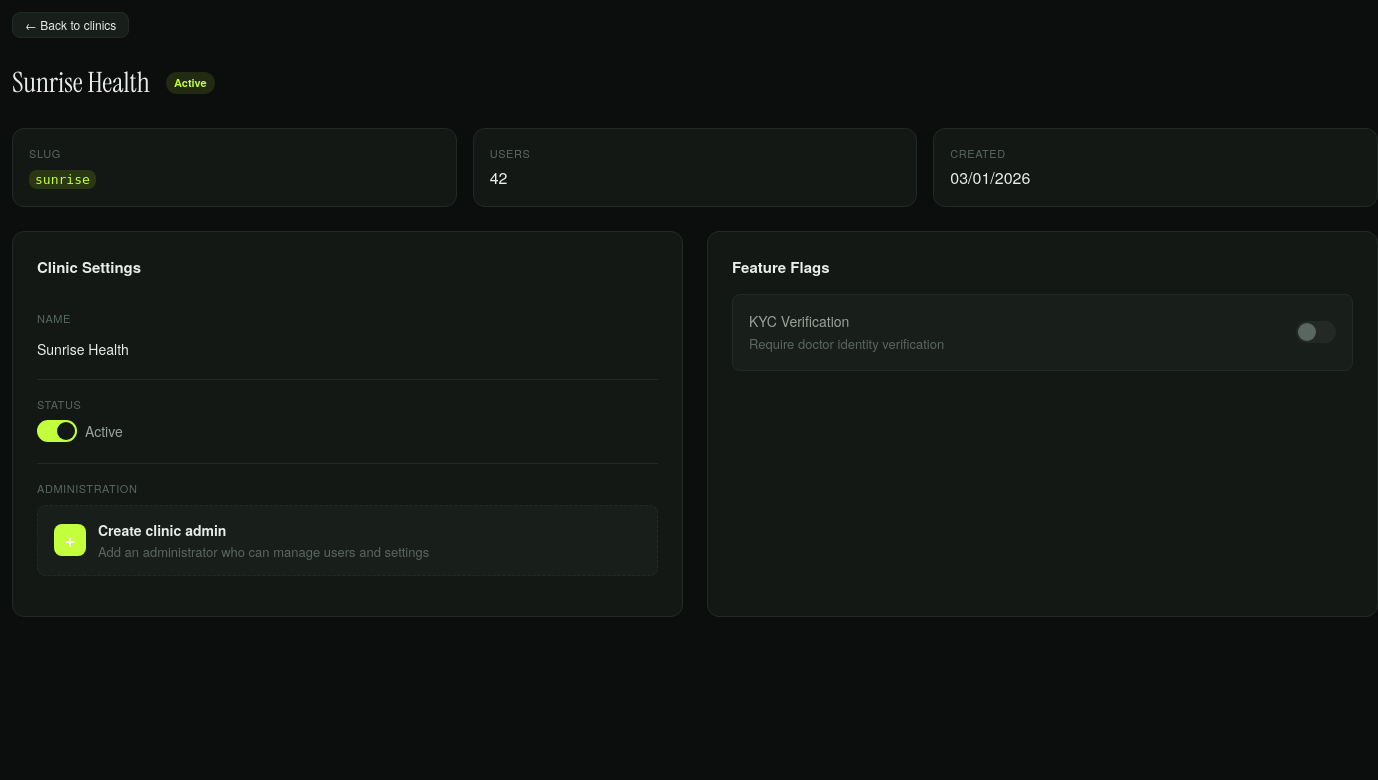
Test: ClinicDetailPage › feature flags › flag error has role="alert"
Expected: the text "KYC Verification" is shown, [749,311,849,331]
Click the switch named "KYC Verification" at point(1316, 332), box [1296,321,1336,343]
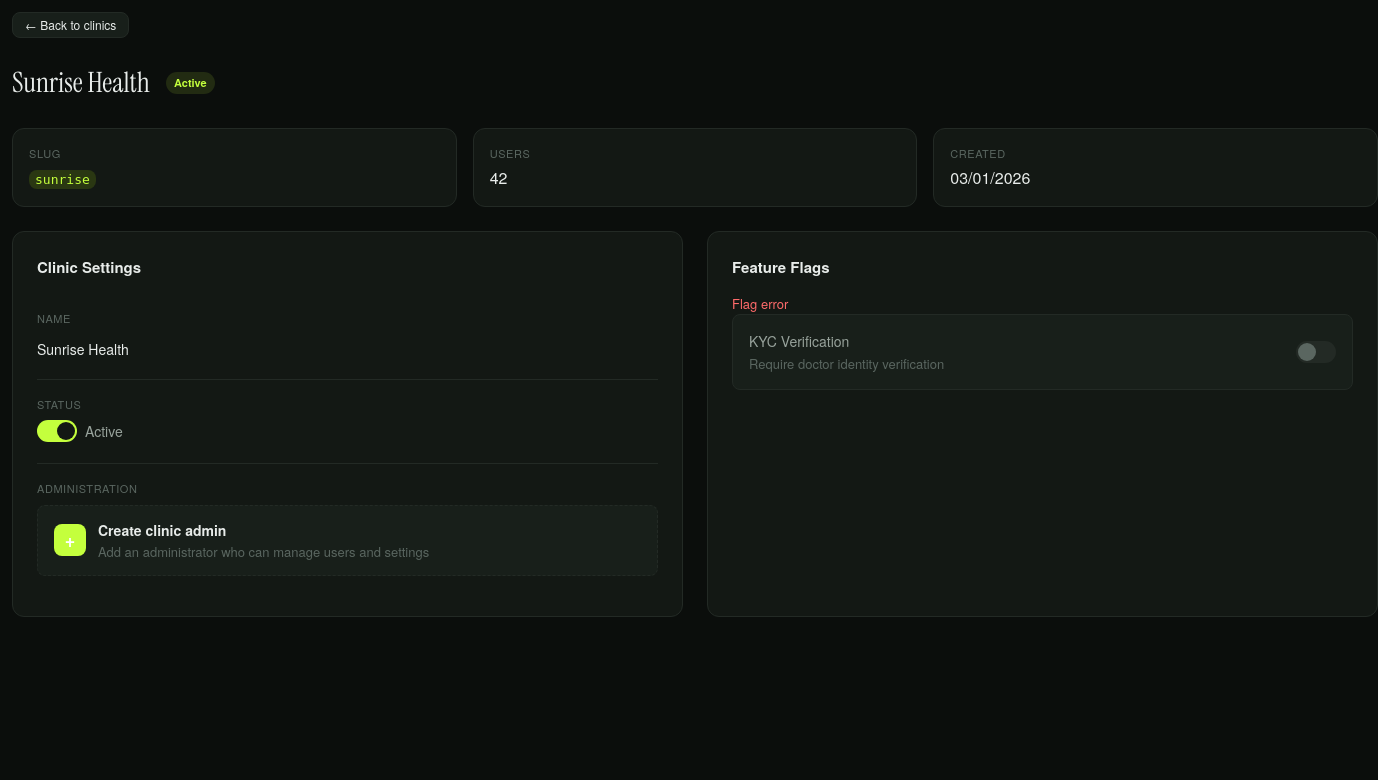
Now the message "Flag error" is shown, box [732,294,788,313]
